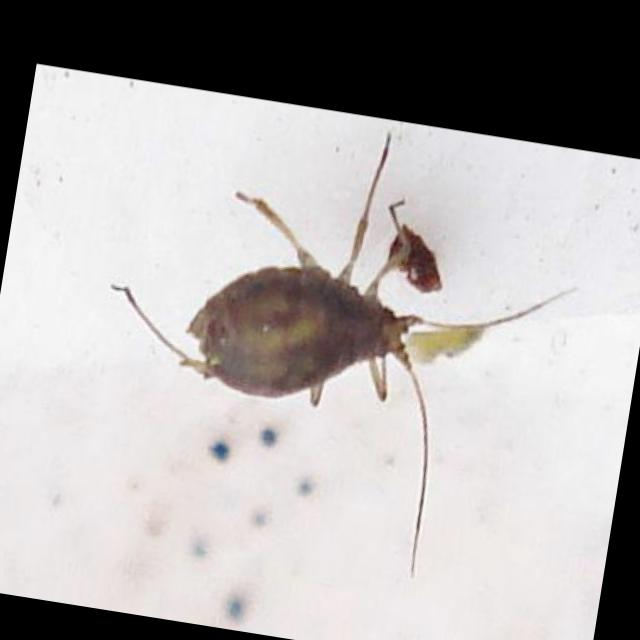Aphids: (126, 144, 507, 482)
